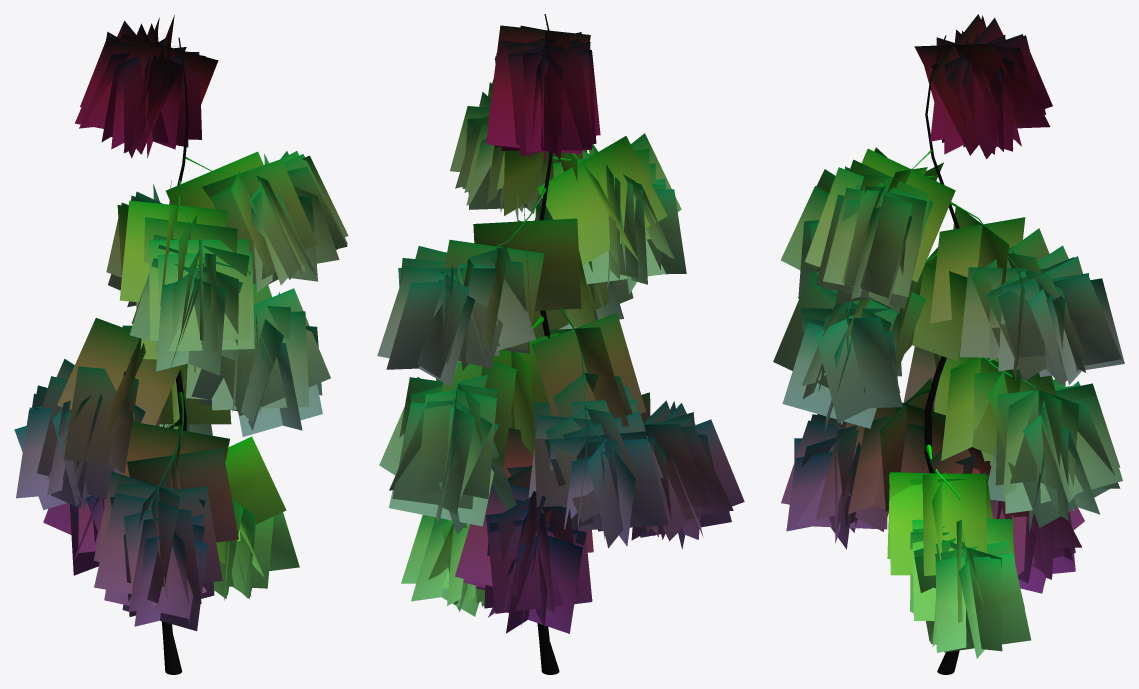
Rendered from URP_P13_Tree_1_LOD_1.fbx.
3 renders of one model, left to right at view 1: azimuth 30°, elevation 25°; view 2: azimuth 150°, elevation 25°; view 3: azimuth 270°, elevation 25°, orthographic. The views are drawn at different scales.
Visible parts, largest first — view 1: Tree_1_LOD_1; view 2: Tree_1_LOD_1; view 3: Tree_1_LOD_1.
Part boxes in pixels (left/top/right/bottom): Tree_1_LOD_1: left=14, top=15, right=348, bottom=674; Tree_1_LOD_1: left=377, top=14, right=744, bottom=674; Tree_1_LOD_1: left=773, top=14, right=1124, bottom=674.
Bounding box in the file's own units: 340 × 784 × 391.
